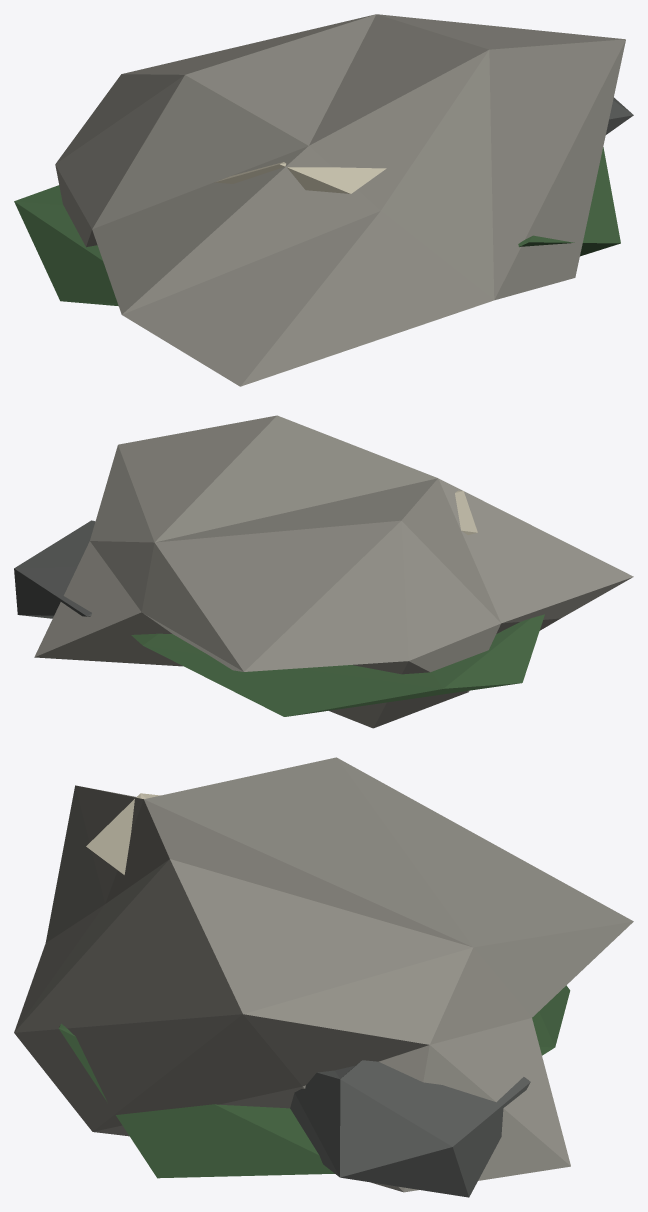
File: rock_3_lod1.glb
The picture shows the model from 3 angles, top to bottom: view 1: azimuth 30°, elevation 25°; view 2: azimuth 150°, elevation 25°; view 3: azimuth 270°, elevation 25°; orthographic projection. The views are drawn at different scales.
Visible parts, largest first — view 1: rock_3_lod1; view 2: rock_3_lod1; view 3: rock_3_lod1.
Boxes of the visible parts, <box> form: rock_3_lod1: <box>14,14,633,386</box>; rock_3_lod1: <box>14,415,633,728</box>; rock_3_lod1: <box>14,757,633,1197</box>.
Size of the model in its own units: 2.75 by 1.12 by 2.07.
